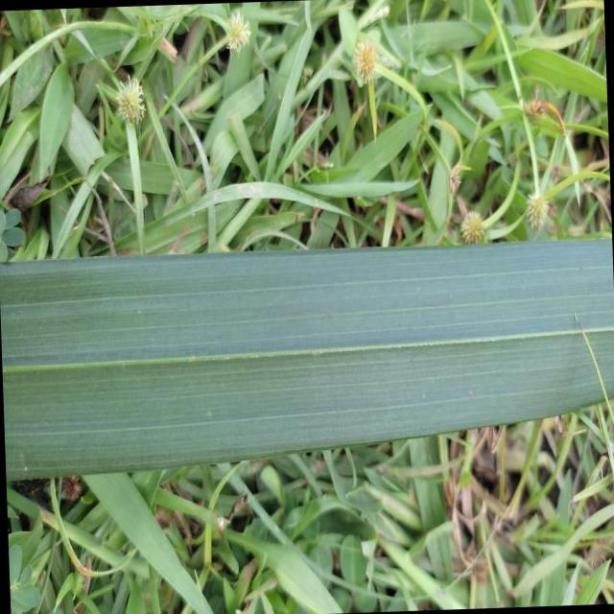Healthy: (0, 240, 614, 481)
